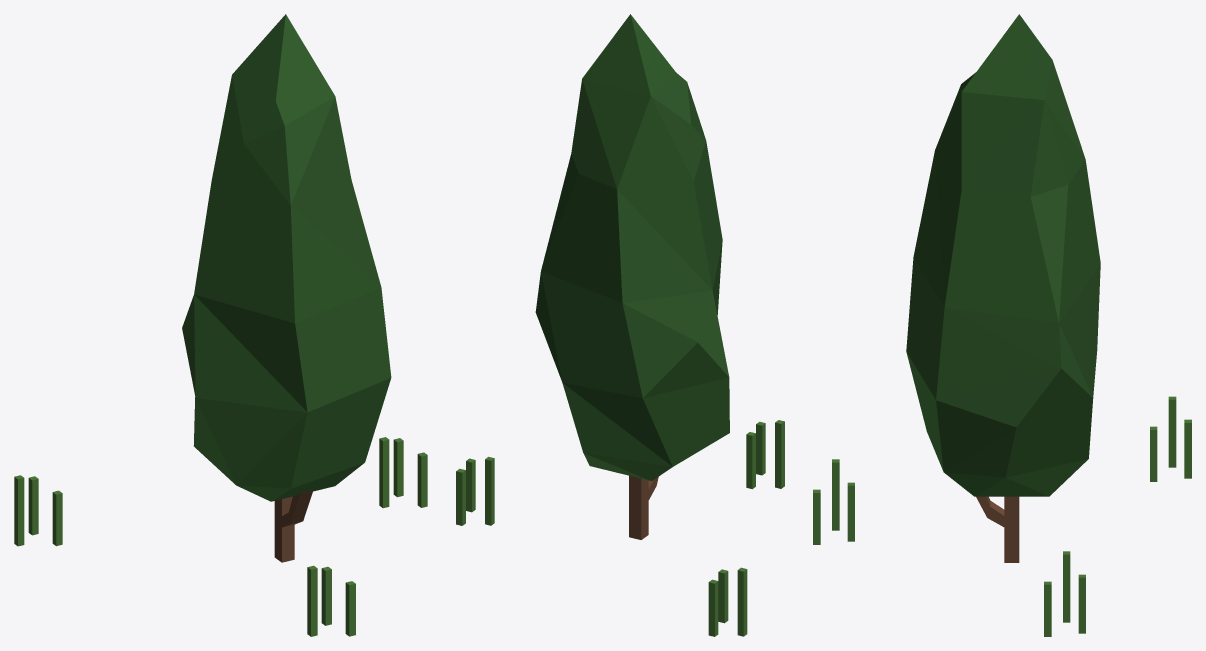
File: tree1.glb
3 views of the same model, side by side, from view 1: azimuth 30°, elevation 25°; view 2: azimuth 150°, elevation 25°; view 3: azimuth 270°, elevation 25° (orthographic). The views are drawn at different scales.
Parts seen in each view (by area): view 1: tree; view 2: tree; view 3: tree.
Part boxes in pixels (x1,y1,x2,y2): tree: (14,14,427,636); tree: (456,14,784,636); tree: (813,14,1191,636).
Size of the model in its own units: 5.43 by 8.06 by 5.04.
